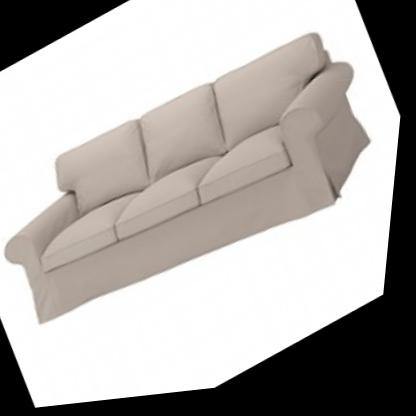Sofa: (0, 0, 415, 387)
